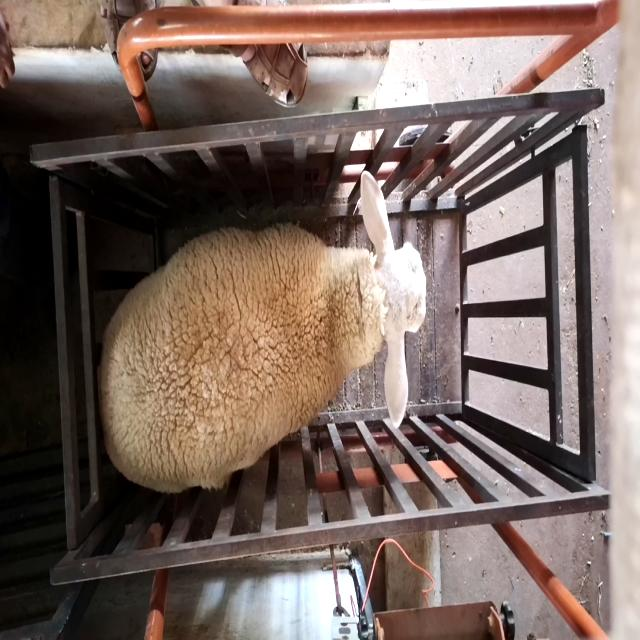sheep: (96, 169, 427, 495)
